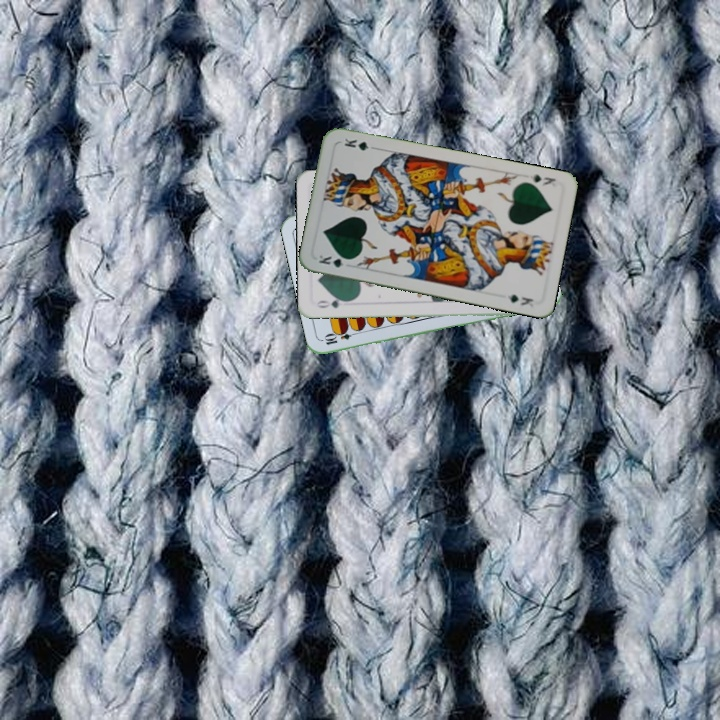E10: (320, 326, 361, 347)
GK: (315, 250, 354, 270), (526, 170, 558, 188)
GO: (312, 294, 353, 311)
